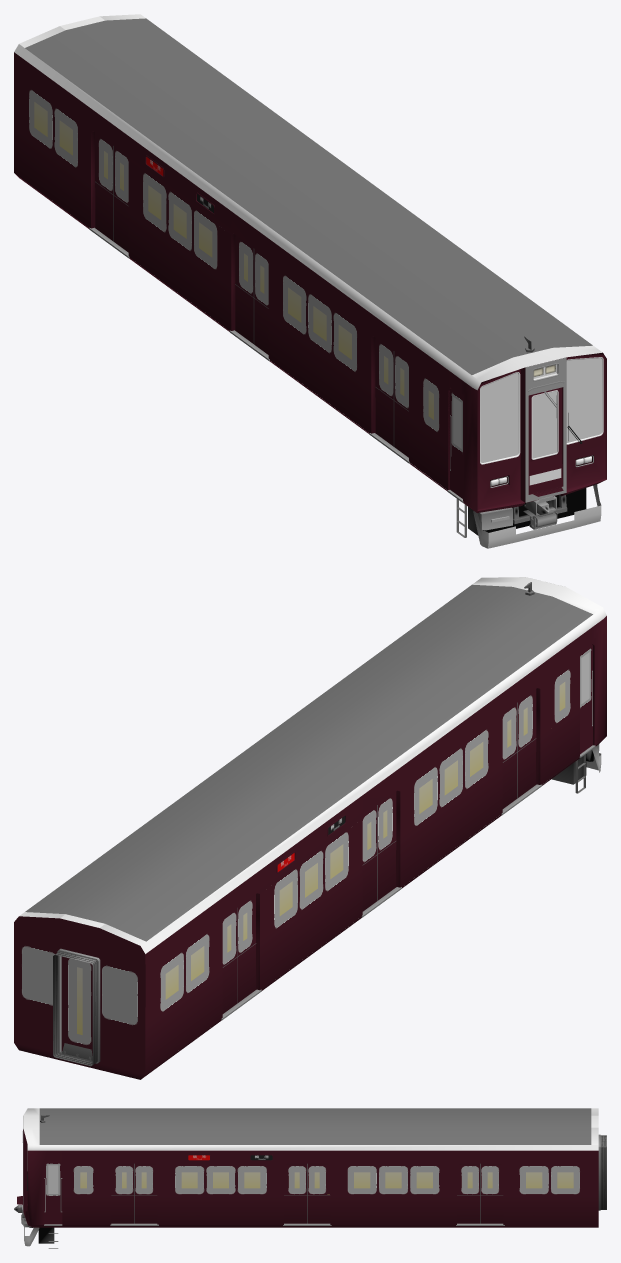
The picture shows the model from 3 angles, top to bottom: view 1: azimuth 30°, elevation 25°; view 2: azimuth 150°, elevation 25°; view 3: azimuth 270°, elevation 25°; orthographic projection. The views are drawn at different scales.
Parts seen in each view (by area): view 1: in_light; view 2: in_light; view 3: in_light.
Part boxes in pixels (x1,y1,x2,y2): in_light: (14, 14, 606, 548); in_light: (14, 577, 606, 1079); in_light: (14, 1108, 606, 1248).
Bounding box in the file's own units: 6.3 × 8.44 × 39.43.
Materials: 24 (22 with a texture image).
